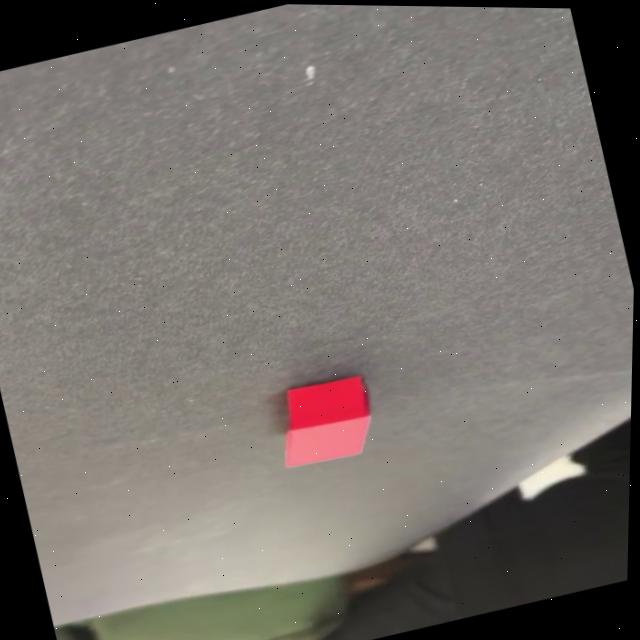red block: (267, 369, 383, 472)
